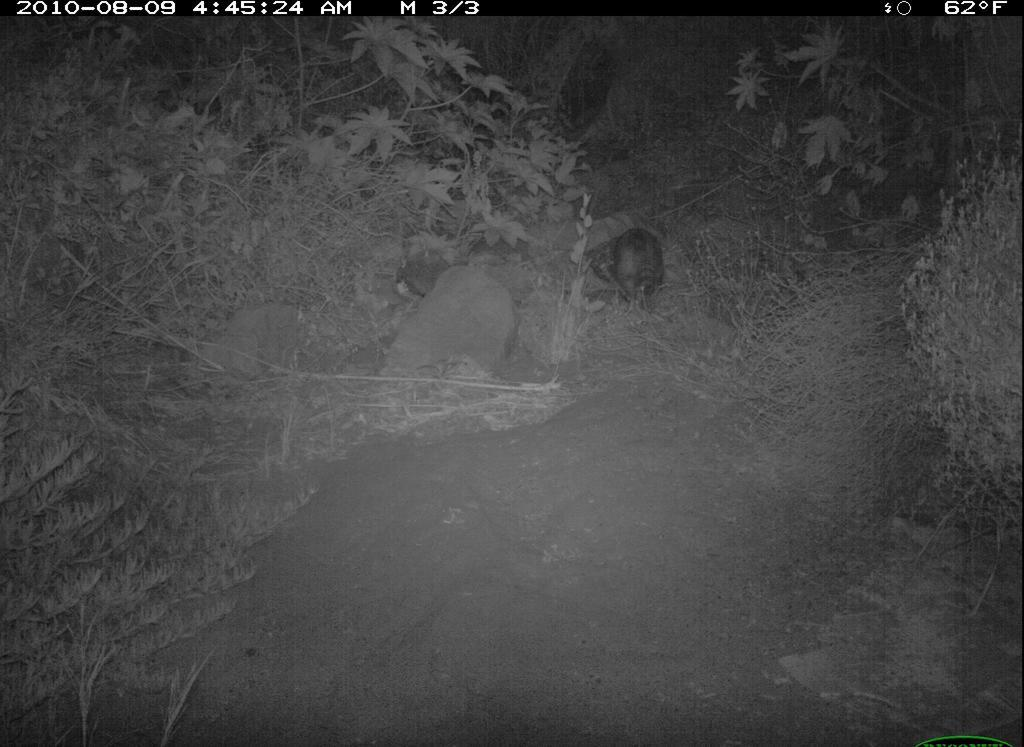raccoon: (600, 218, 681, 317)
